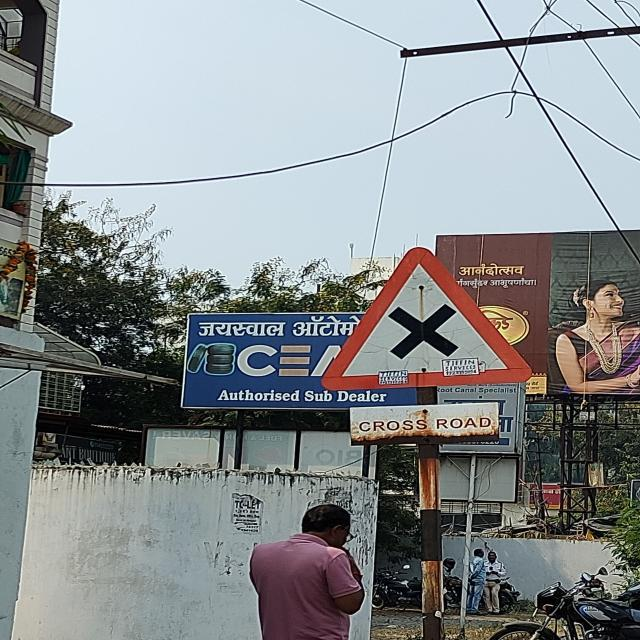cross road: (321, 248, 535, 387)
